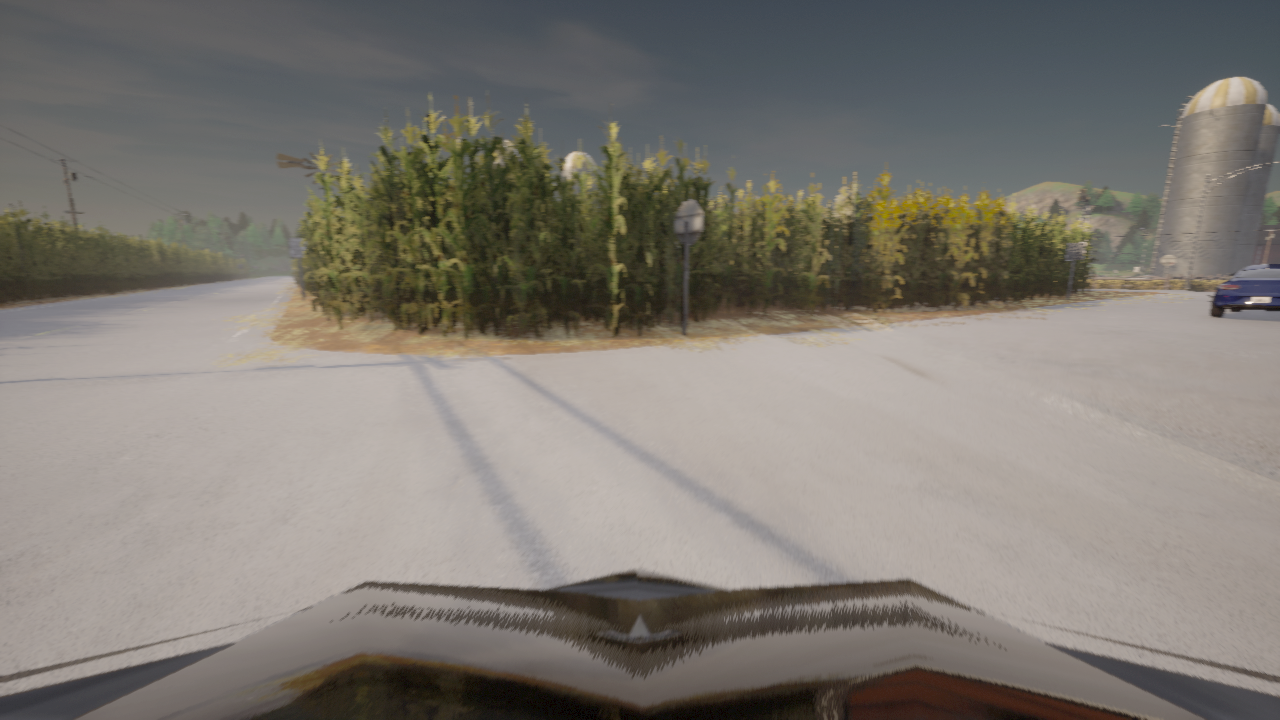cyclist: (0, 569, 1279, 719), (1208, 264, 1279, 316), (1227, 272, 1237, 275), (1097, 275, 1106, 276), (1090, 273, 1092, 274)
